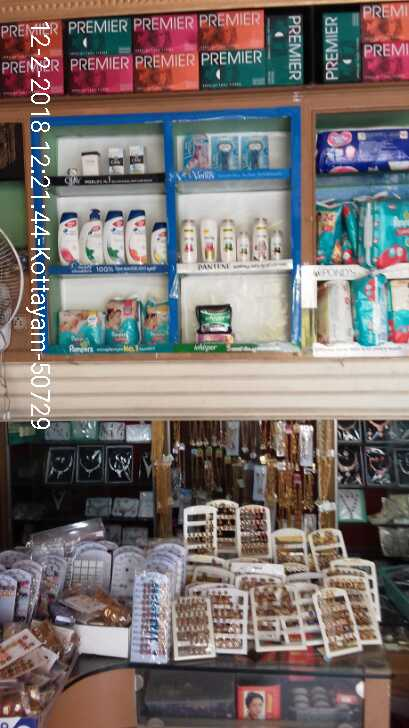venus: (212, 135, 240, 168), (183, 130, 205, 168), (243, 135, 266, 169)
